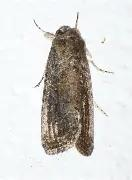army worm adult: (25, 12, 116, 159)
